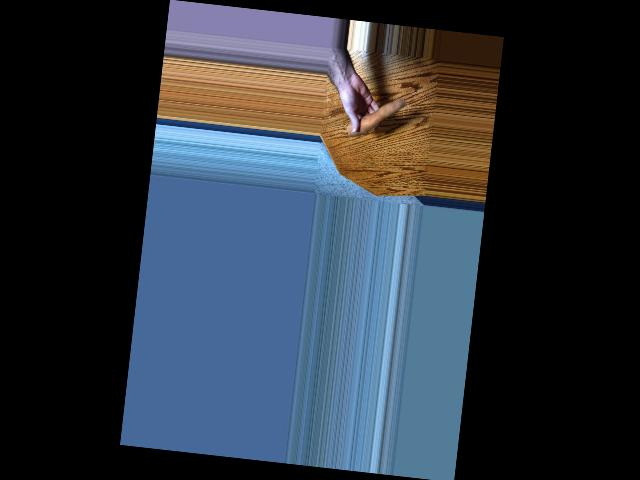sweet_potato: (347, 91, 406, 139)
